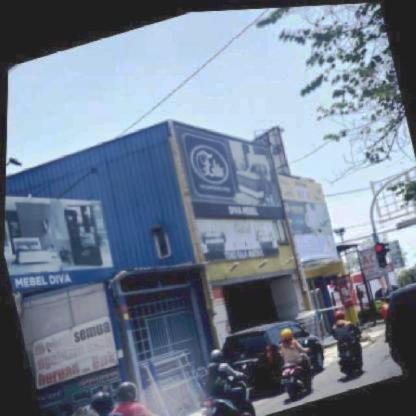Traffic Light -Red-: (373, 242, 388, 270)
